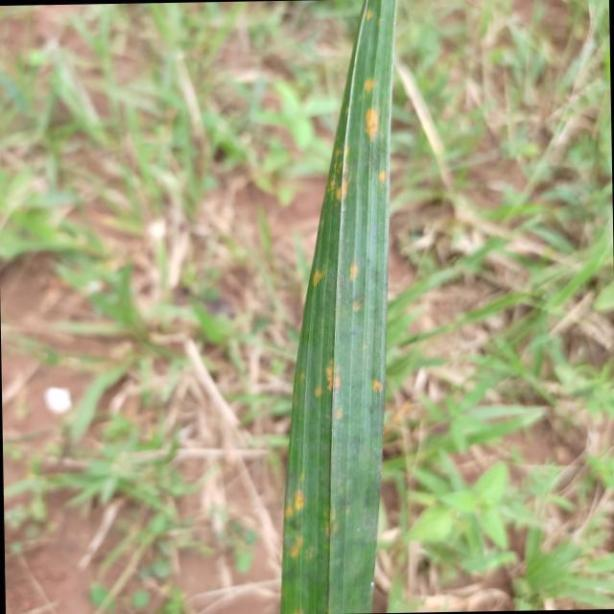Kalium: (278, 0, 402, 614)
